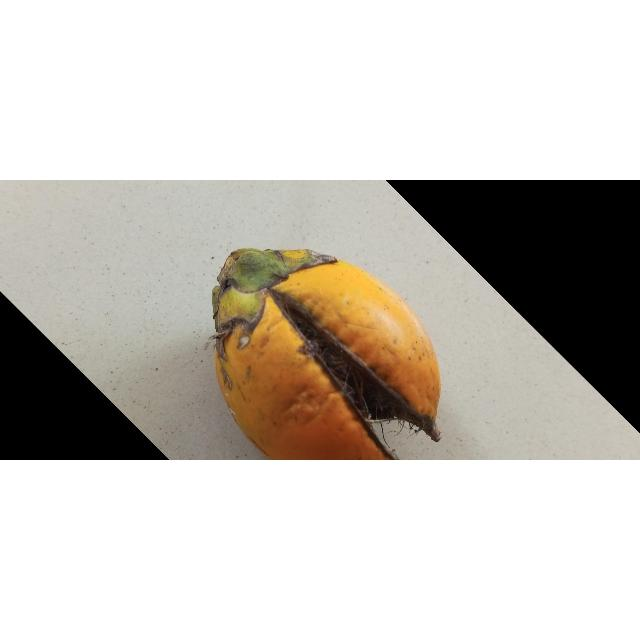damaged: (211, 249, 445, 461)
